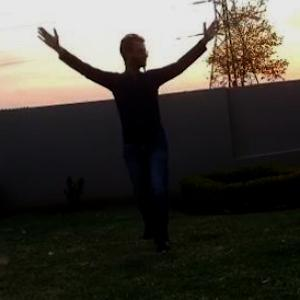takeoff: (28, 25, 217, 241)
